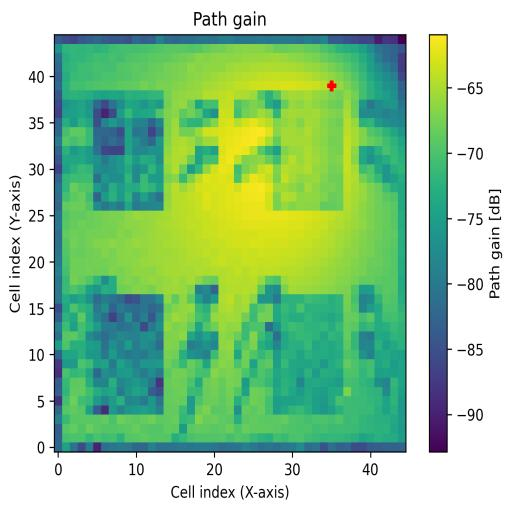Concrete: (273, 92, 344, 210)
Glass: (94, 100, 164, 210)
Metal: (274, 294, 344, 414)
Wood: (86, 294, 164, 416)
